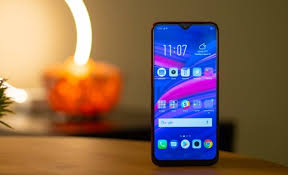oppo: (148, 15, 221, 167)
